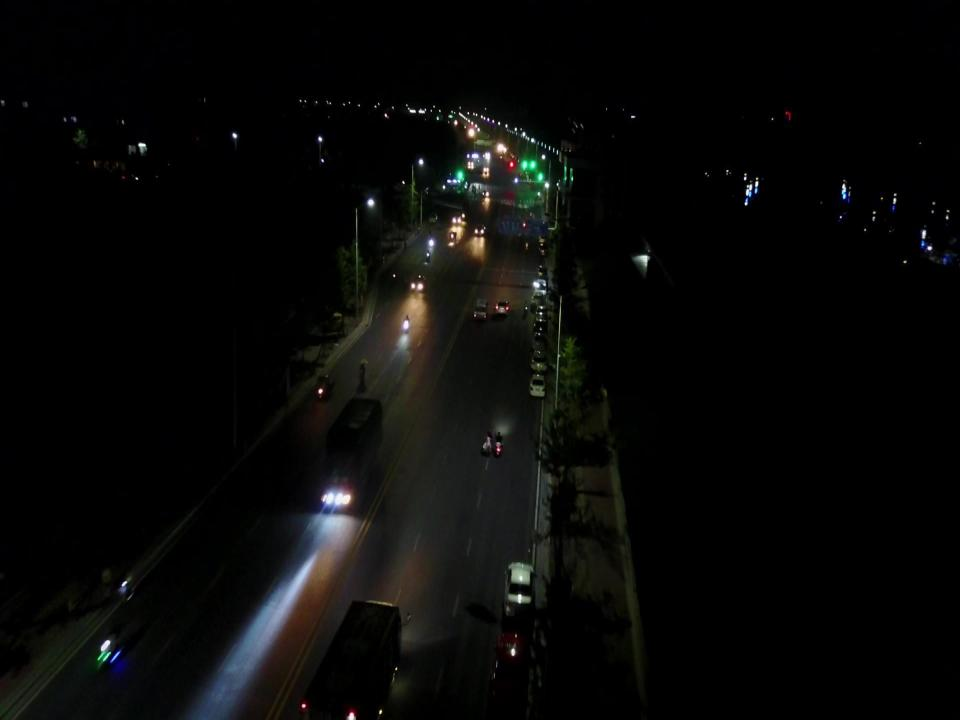car: (491, 628, 529, 703), (502, 562, 536, 619), (530, 373, 546, 398), (474, 296, 489, 319), (496, 298, 510, 315), (532, 332, 546, 349), (534, 315, 548, 332), (411, 275, 427, 289), (532, 292, 544, 308), (536, 304, 547, 320), (537, 241, 548, 257), (536, 278, 546, 295), (474, 223, 486, 236), (538, 234, 546, 245)
truck: (298, 596, 400, 718), (317, 397, 383, 510), (530, 349, 548, 372)
